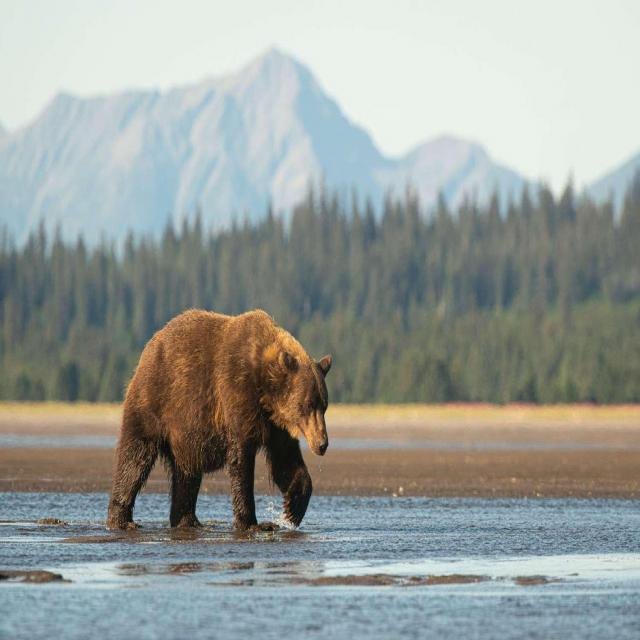Bear: (104, 309, 333, 543)
